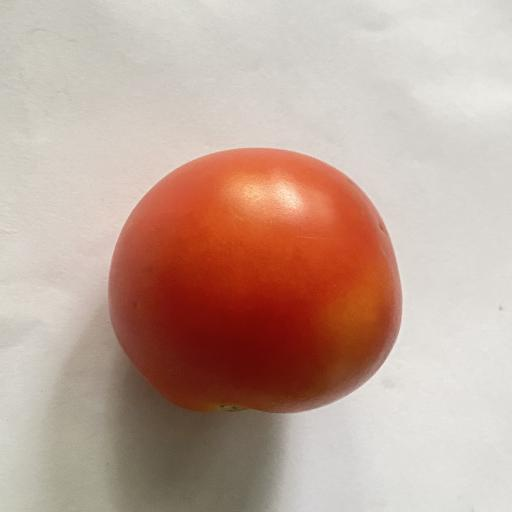ripe: (109, 148, 401, 413)
